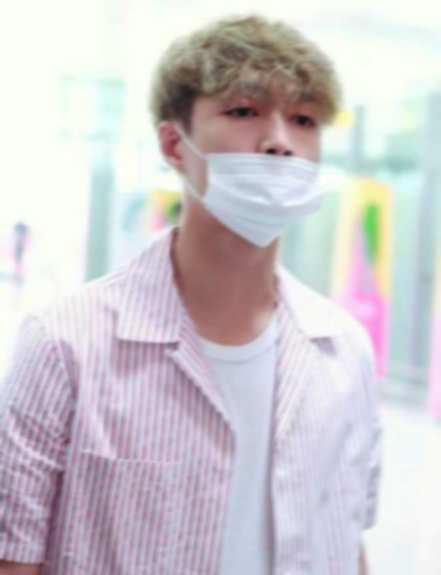mask_weared_incorrect: (189, 97, 328, 251)
